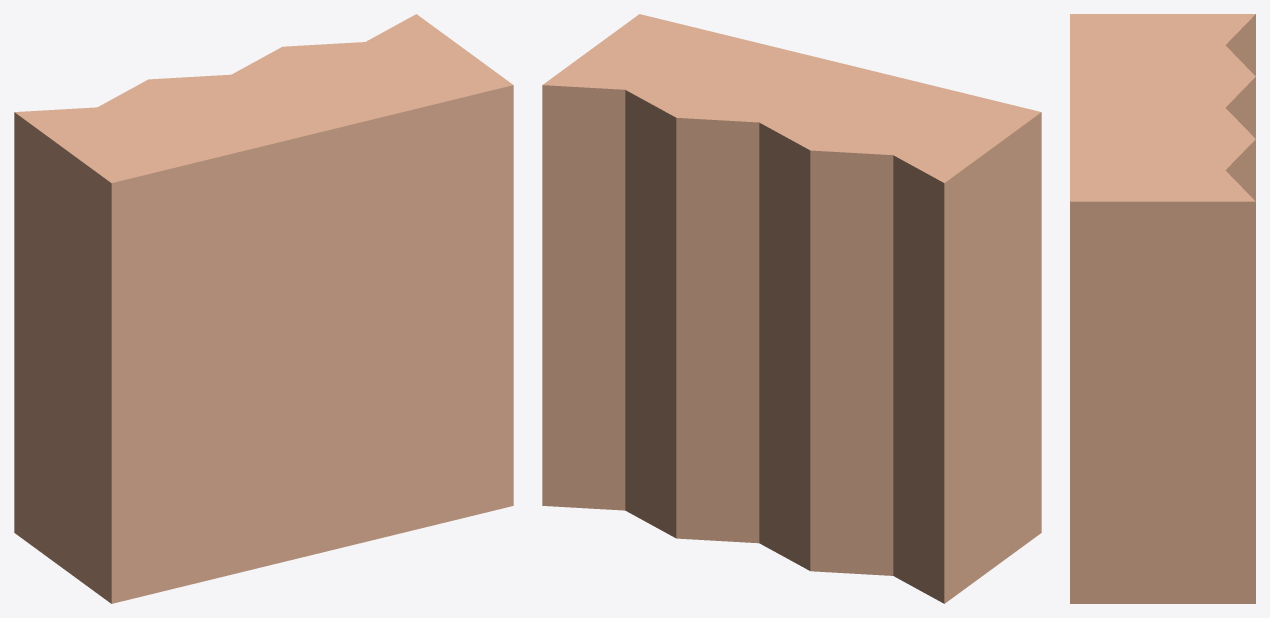
The model's file is cliff_large_rock.glb.
The picture shows the model from 3 angles, left to right: view 1: azimuth 30°, elevation 25°; view 2: azimuth 150°, elevation 25°; view 3: azimuth 270°, elevation 25°; orthographic projection. The views are drawn at different scales.
Visible parts, largest first — view 1: cliff_large_rock; view 2: cliff_large_rock; view 3: cliff_large_rock.
Part boxes in pixels (box(x1,y1,x2,y2)): cliff_large_rock: box(14, 14, 513, 603); cliff_large_rock: box(542, 14, 1041, 603); cliff_large_rock: box(1070, 14, 1255, 603).
Size of the model in its own units: 1.2 by 1.2 by 0.5022.
